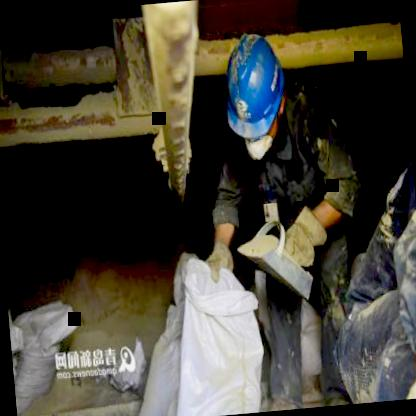helmet: (218, 29, 298, 162)
